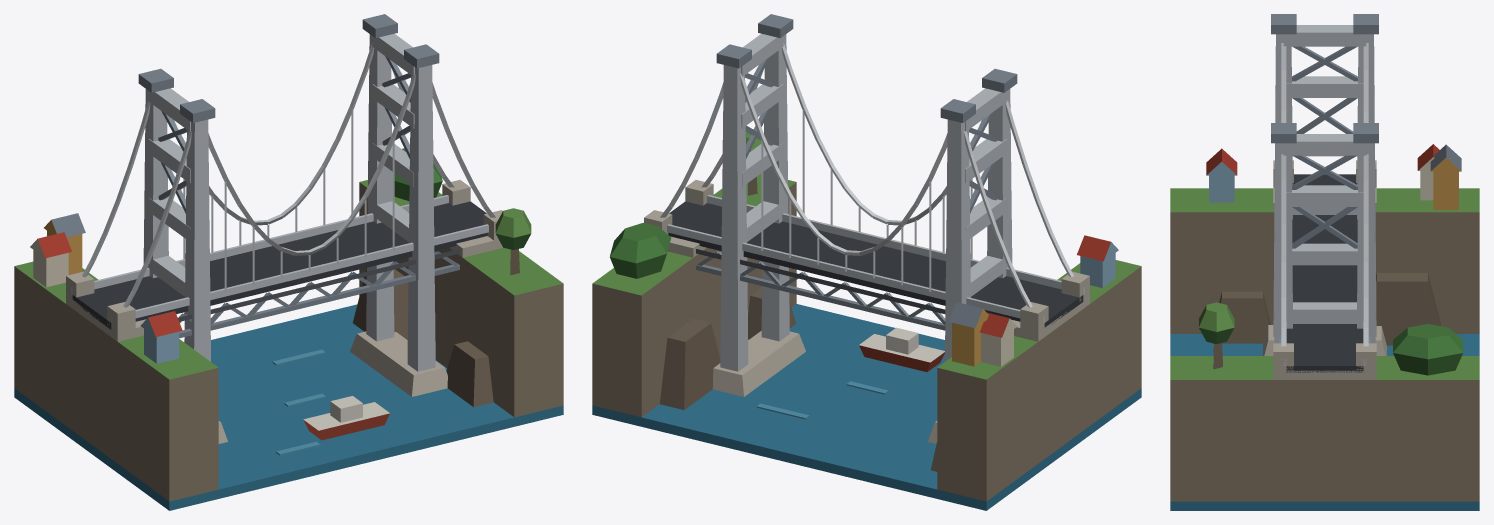
File: pontMatadi.glb
3 renders of one model, left to right at view 1: azimuth 30°, elevation 25°; view 2: azimuth 150°, elevation 25°; view 3: azimuth 270°, elevation 25°, orthographic.
Parts seen in each view (by area): view 1: pontMatadi; view 2: pontMatadi; view 3: pontMatadi.
Boxes of the visible parts, x1,y1,x2,y2 form: pontMatadi: [14, 14, 563, 510]; pontMatadi: [592, 14, 1141, 510]; pontMatadi: [1170, 14, 1479, 510].
Bounding box in the file's own units: 1.78 × 1.46 × 1.2.
